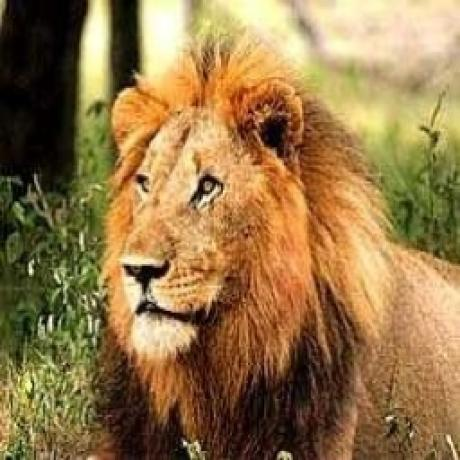Lion: (93, 23, 460, 460)
